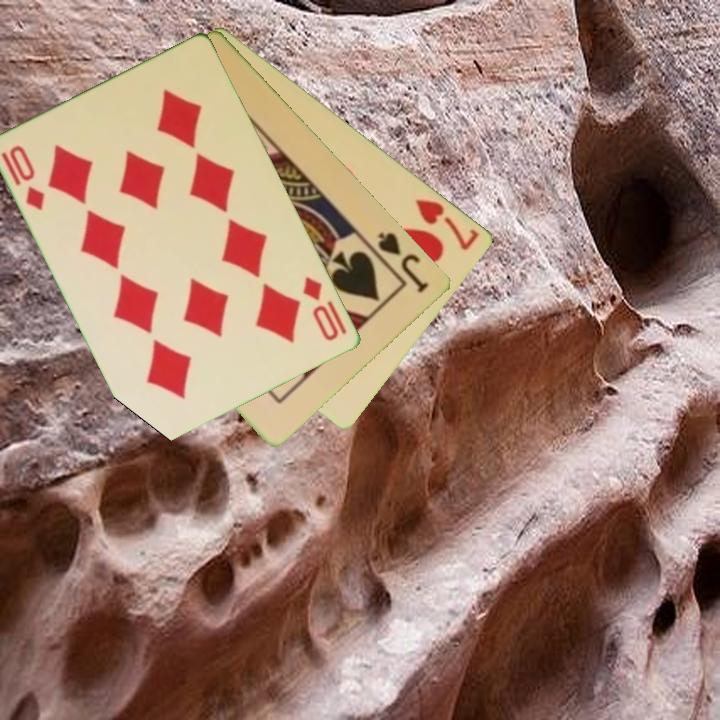10d: (6, 141, 48, 214), (300, 272, 342, 344)
7h: (412, 195, 483, 254)
Js: (374, 228, 432, 296)
